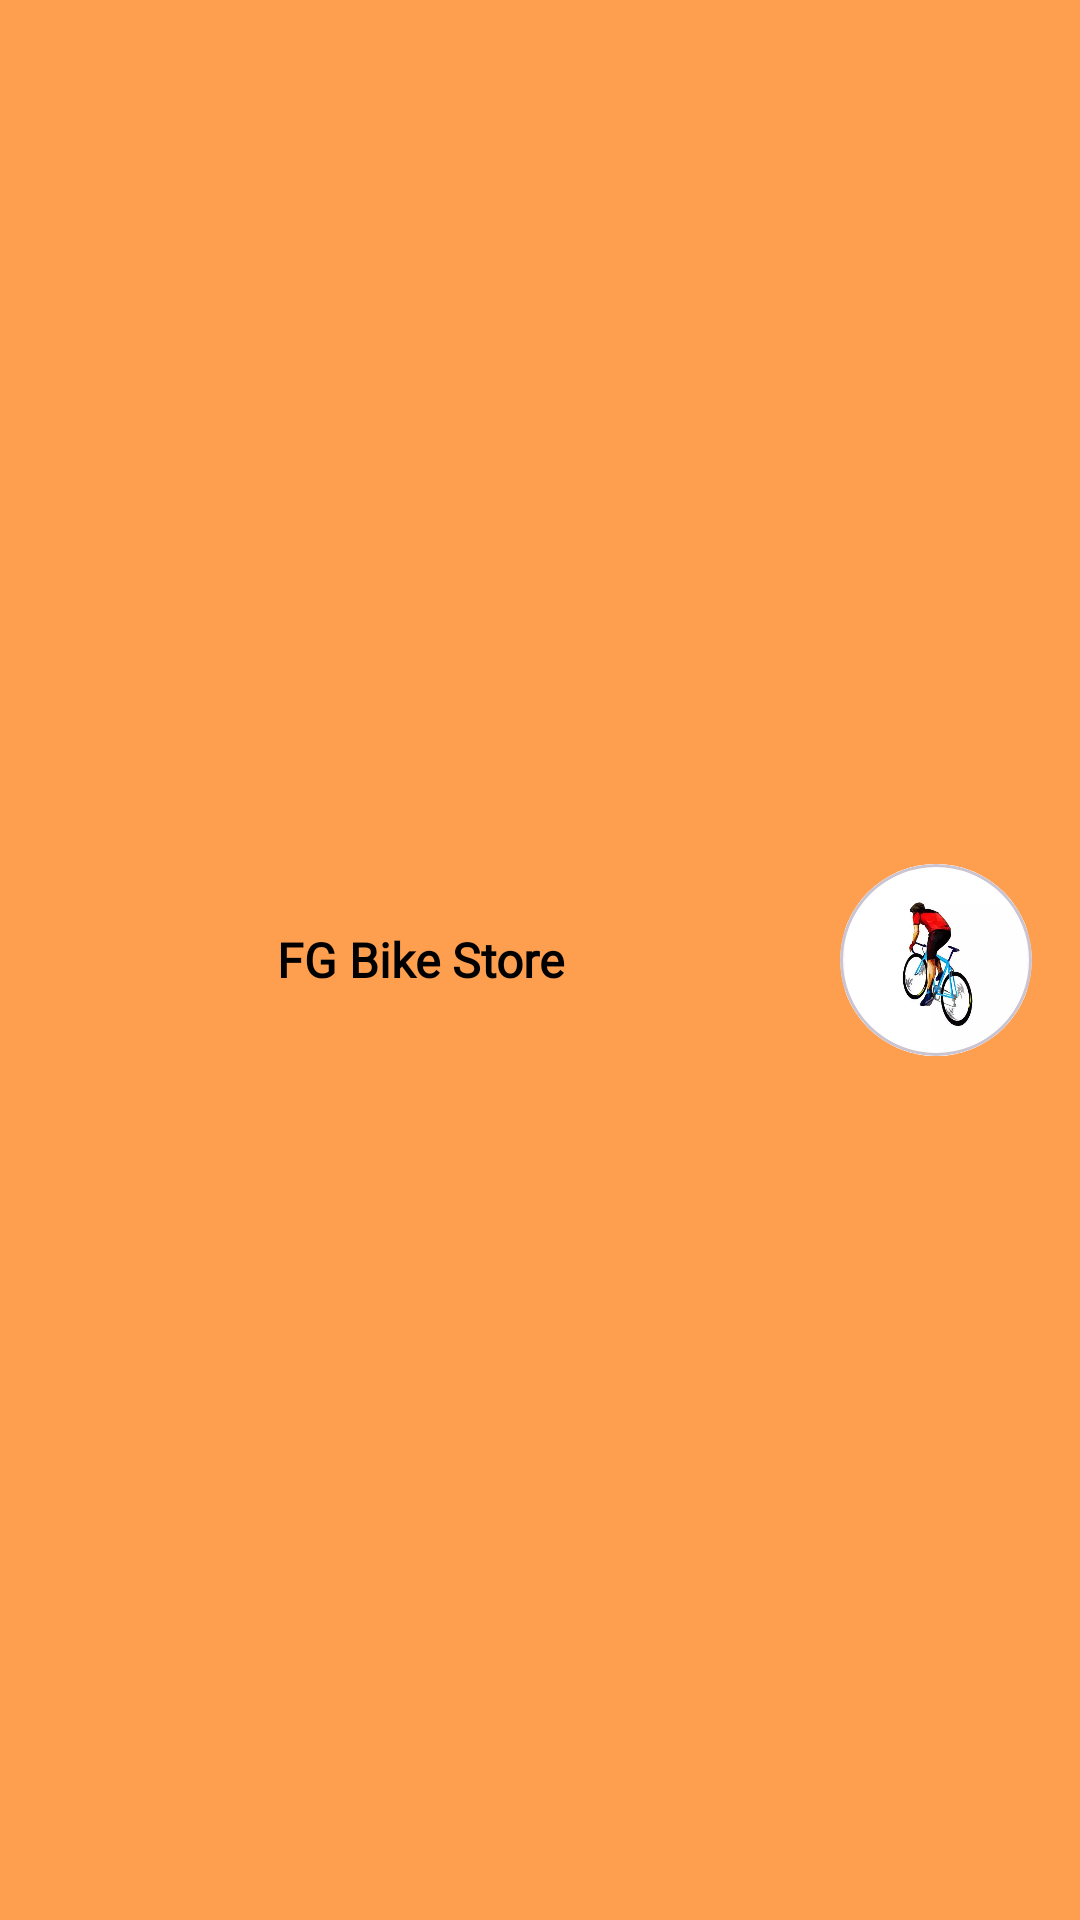

Screen size 1080 x 1920. Icon name, then its center in pixels as (x=x, y=y):
Profile image: (x=936, y=960)
